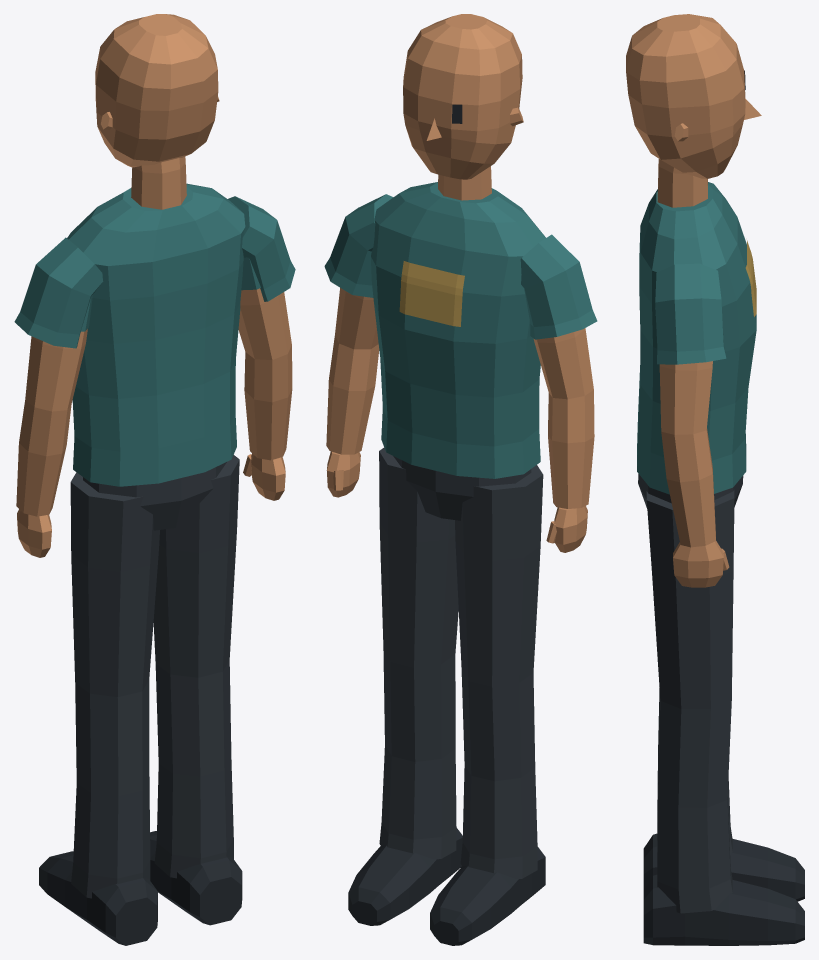
Rendered from lwf_attendee_male_relaxed_v2.glb.
3 views of the same model, side by side, from view 1: azimuth 30°, elevation 25°; view 2: azimuth 150°, elevation 25°; view 3: azimuth 270°, elevation 25° (orthographic). The views are drawn at different scales.
Parts seen in each view (by area): view 1: Attendee_male_relaxed_v6; view 2: Attendee_male_relaxed_v6; view 3: Attendee_male_relaxed_v6.
Part boxes in pixels (x1=…): Attendee_male_relaxed_v6: x1=14, y1=14, x2=295, y2=945; Attendee_male_relaxed_v6: x1=324, y1=14, x2=597, y2=945; Attendee_male_relaxed_v6: x1=626, y1=14, x2=804, y2=945.
Size of the model in its own units: 0.5385 by 1.73 by 0.3121.
1 material, 1 textured.
